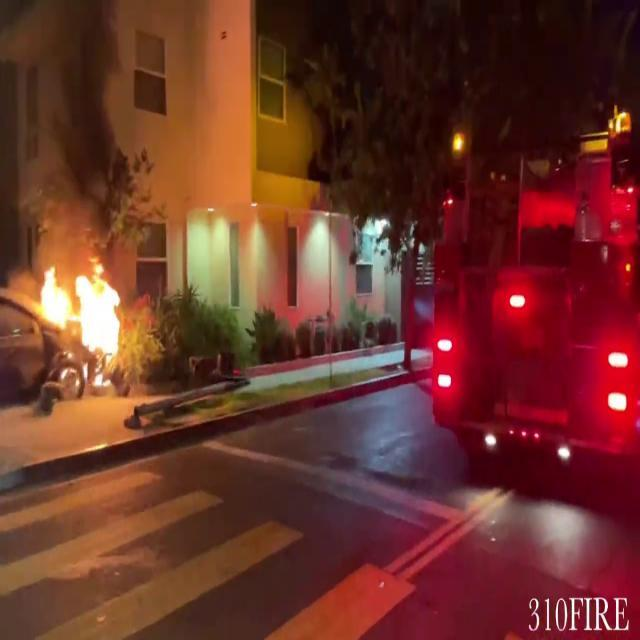Fire: (28, 253, 136, 388)
Smoke: (0, 1, 144, 242)
